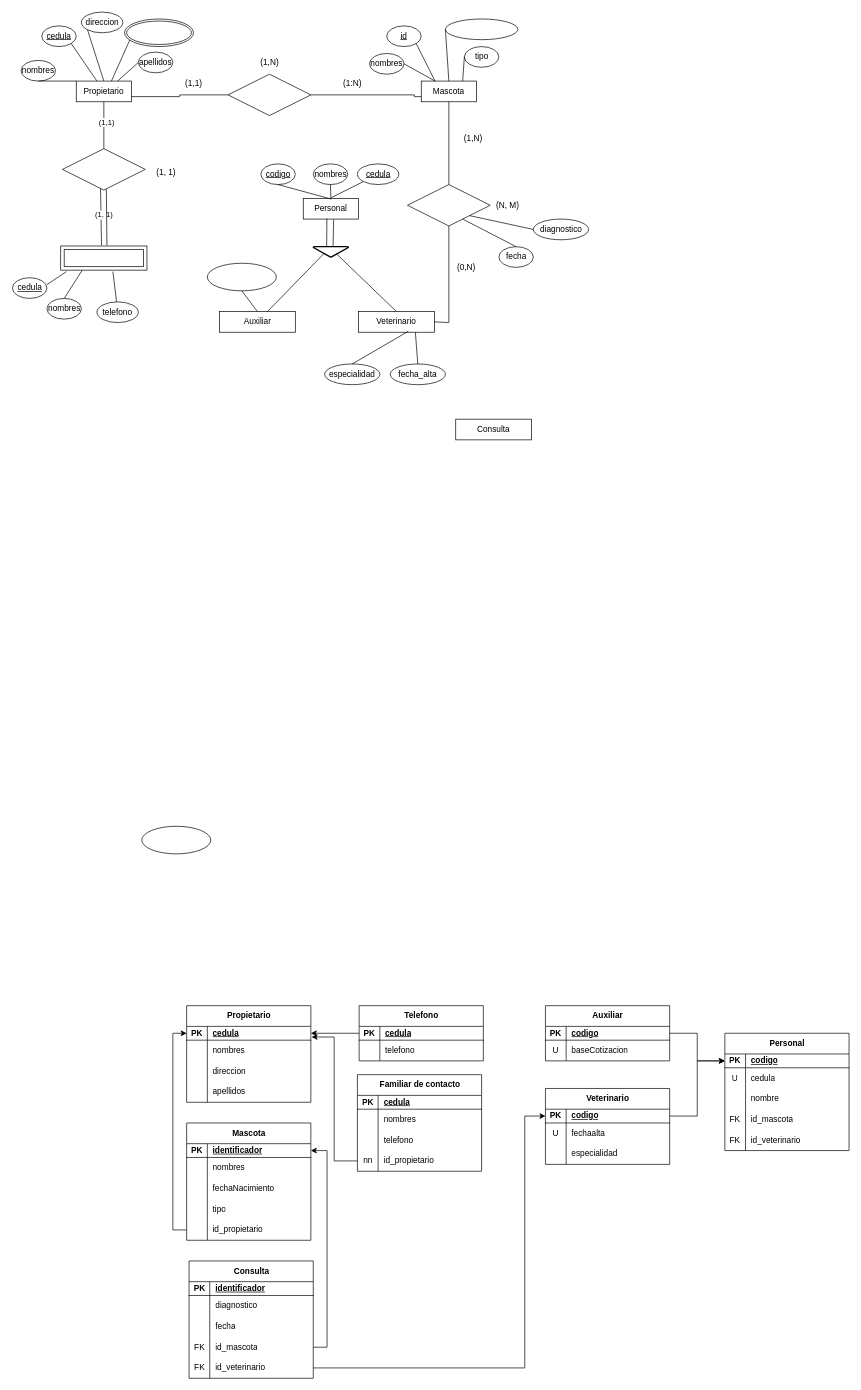
Image size: 861x1390. Some labels were removed from this diagram. The centre of each missing label's shape, as x and y in pixels:
Attribute: point (176, 840)
base_cotizacion: point (241, 277)
Familiar_Contacto: point (103, 257)
fecha_nacimiento: point (481, 29)
lleva: point (269, 94)
pasa consulta: point (448, 205)
telefonos: point (159, 32)
tiene: point (103, 169)
